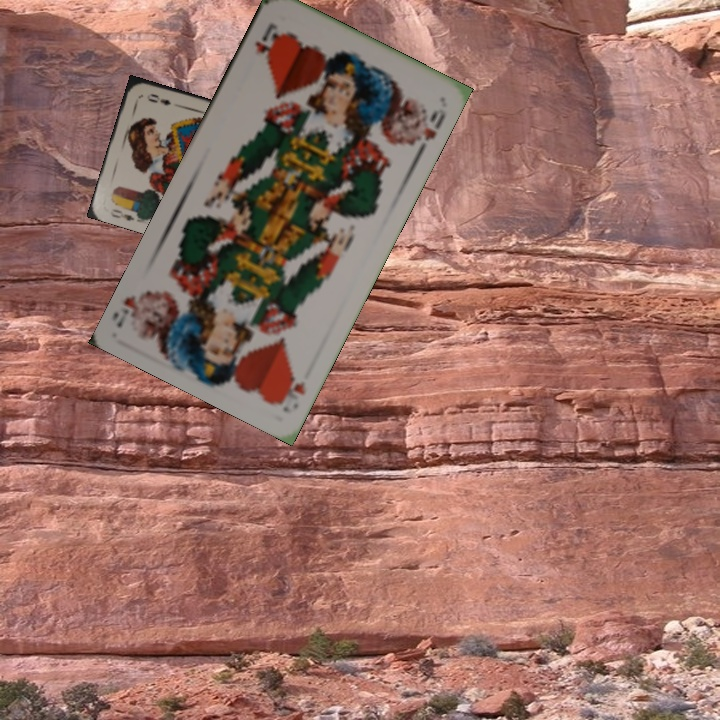EO: (106, 200, 144, 225)
HO: (251, 19, 282, 66), (274, 368, 308, 408)
